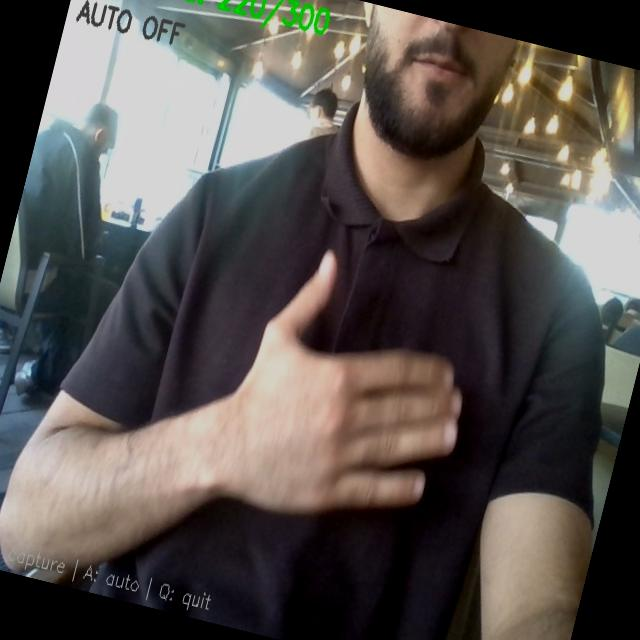Hand: (218, 252, 460, 513)
